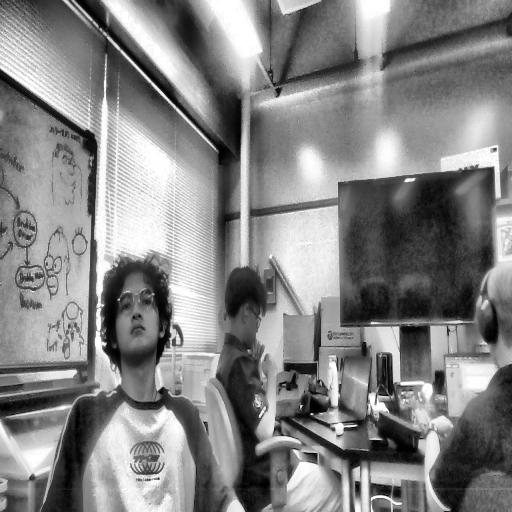Daifuku: (97, 253, 176, 378)
Not Daifuku: (473, 259, 512, 373), (223, 262, 262, 346)
